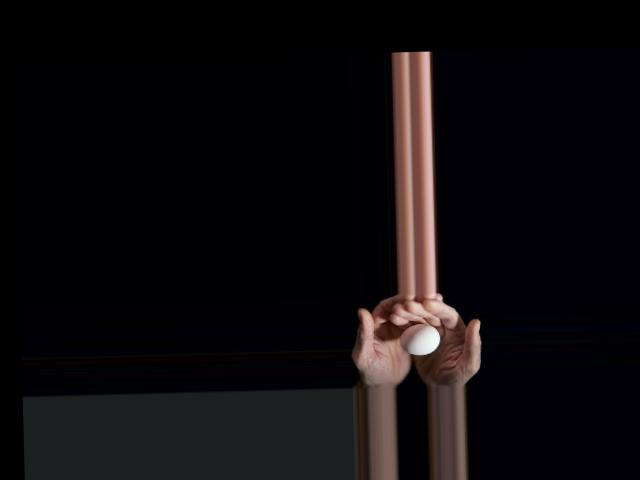egg: (399, 323, 441, 355)
